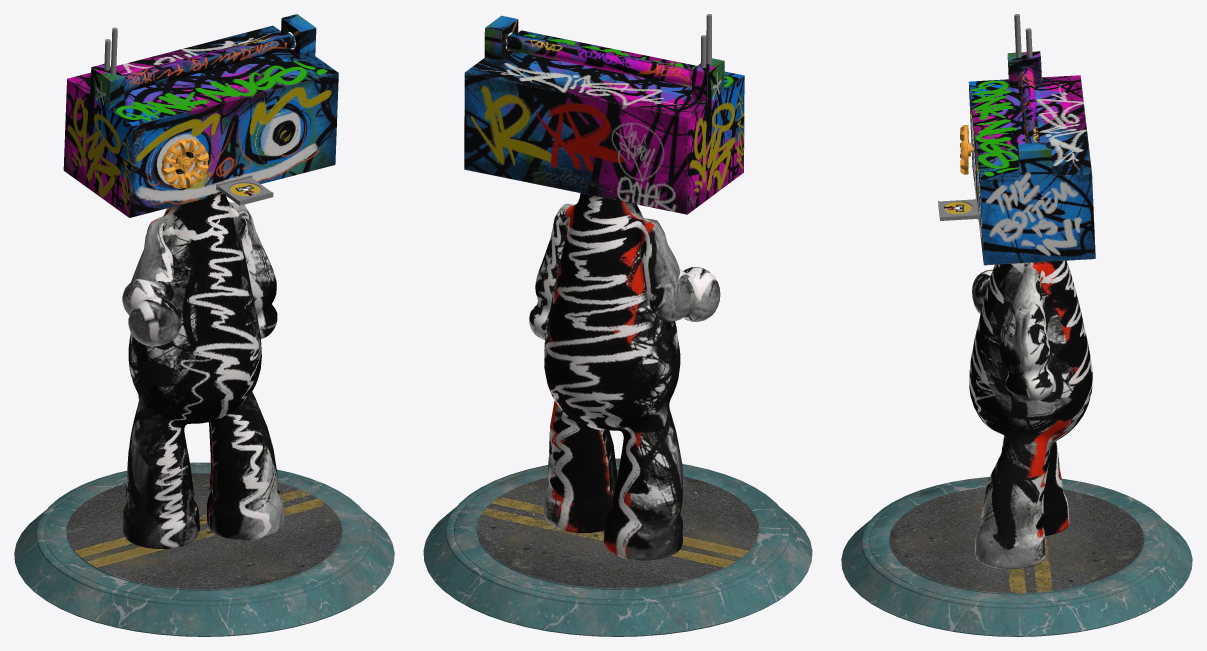
3 views of the same model, side by side, from view 1: azimuth 30°, elevation 25°; view 2: azimuth 150°, elevation 25°; view 3: azimuth 270°, elevation 25° (orthographic). The views are drawn at different scales.
Bounding box in the file's own units: 1.45 × 2.31 × 1.45.
9 materials, 6 textured.
